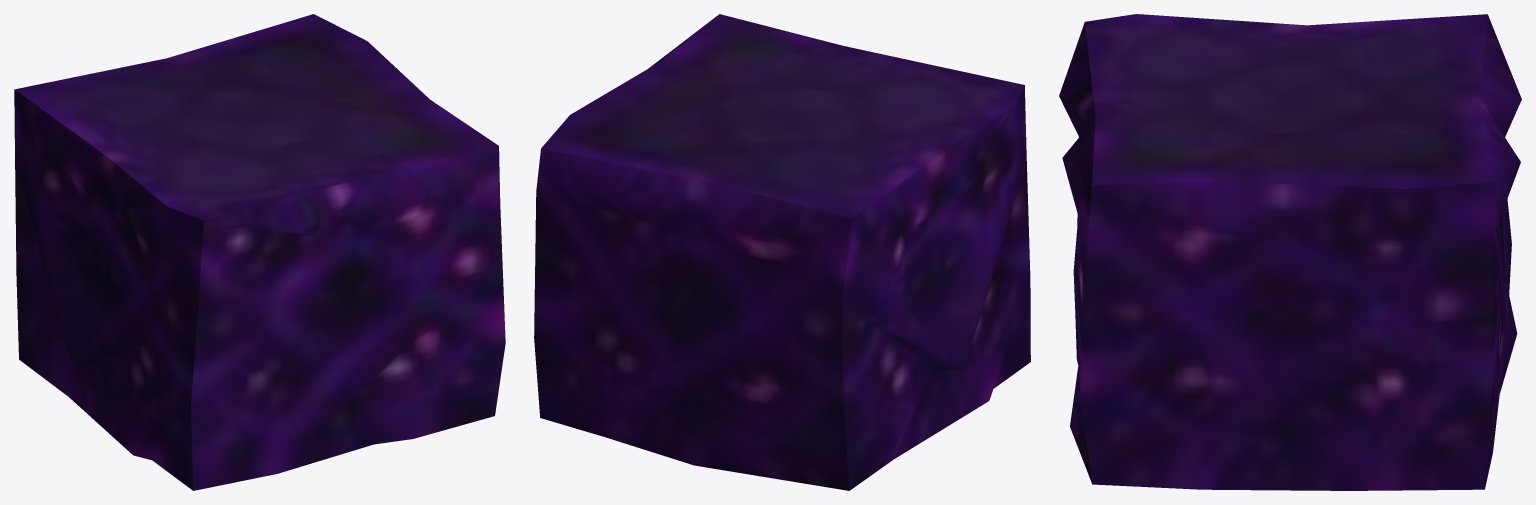
The model's file is b_abimes_mur_2_lod1.glb.
The picture shows the model from 3 angles, left to right: view 1: azimuth 30°, elevation 25°; view 2: azimuth 150°, elevation 25°; view 3: azimuth 270°, elevation 25°; orthographic projection. The views are drawn at different scales.
Visible parts, largest first — view 1: geometry_0; view 2: geometry_0; view 3: geometry_0.
Boxes of the visible parts, bbox=[...] form: geometry_0: bbox=[14, 14, 505, 490]; geometry_0: bbox=[534, 14, 1030, 490]; geometry_0: bbox=[1059, 14, 1521, 490].
Bounding box in the file's own units: 1 × 0.744 × 1.
Materials: 1 (1 with a texture image).
